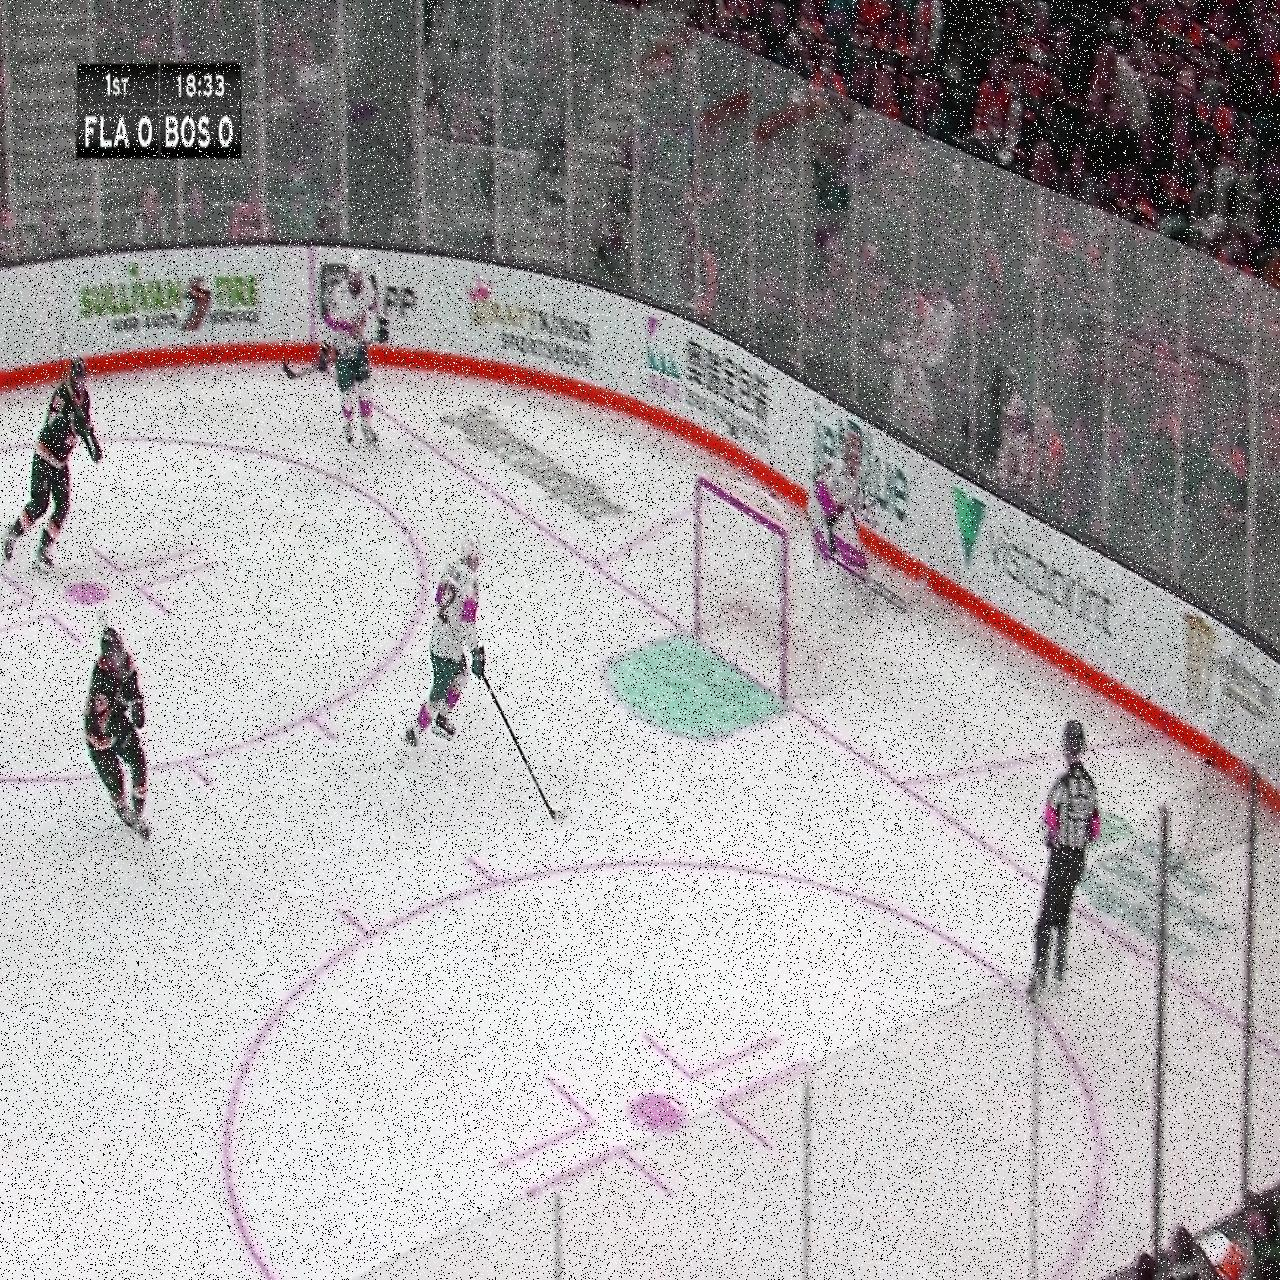Ad: (949, 477, 1122, 655), (1069, 798, 1235, 956), (438, 400, 628, 524), (641, 304, 774, 455), (80, 256, 259, 360), (467, 264, 599, 388), (1183, 602, 1278, 762), (809, 394, 912, 539)
